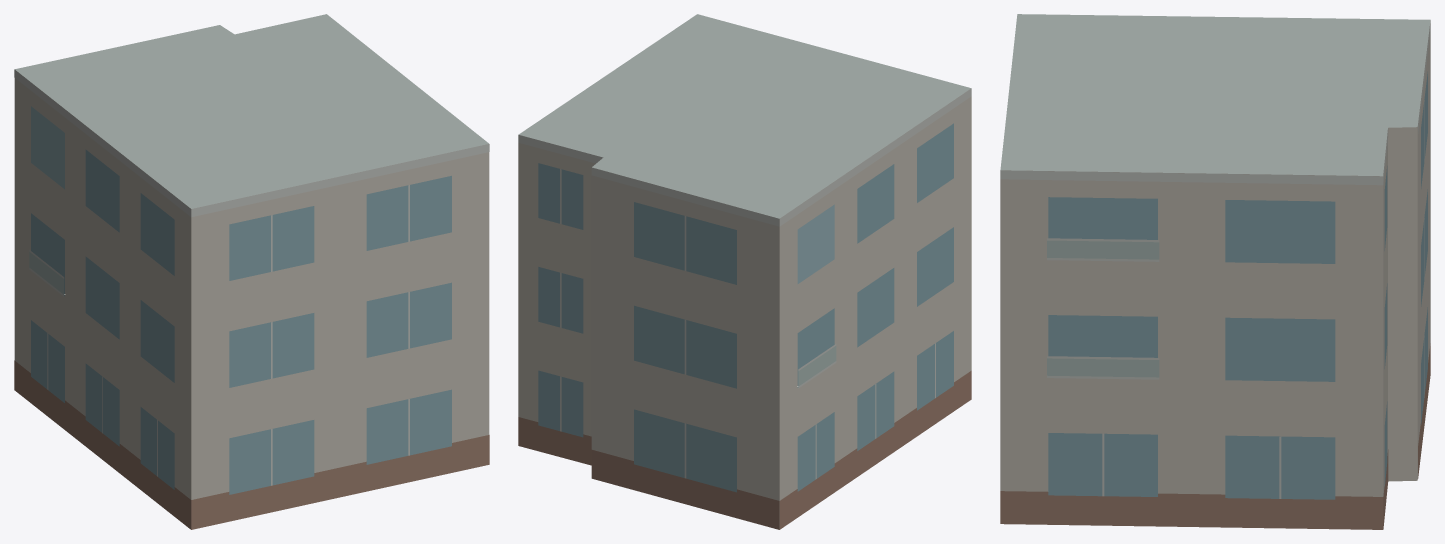
The model's file is survey-upis-32786459.glb.
3 renders of one model, left to right at view 1: azimuth 30°, elevation 25°; view 2: azimuth 150°, elevation 25°; view 3: azimuth 270°, elevation 25°, orthographic. The views are drawn at different scales.
Parts seen in each view (by area): view 1: survey-upis-32786459.tmp; view 2: survey-upis-32786459.tmp; view 3: survey-upis-32786459.tmp.
Part boxes in pixels (left/top/right/bottom): survey-upis-32786459.tmp: left=14, top=14, right=489, bottom=529; survey-upis-32786459.tmp: left=518, top=14, right=971, bottom=529; survey-upis-32786459.tmp: left=1000, top=14, right=1430, bottom=529.
Size of the model in its own units: 9.35 by 9.5 by 10.48.
